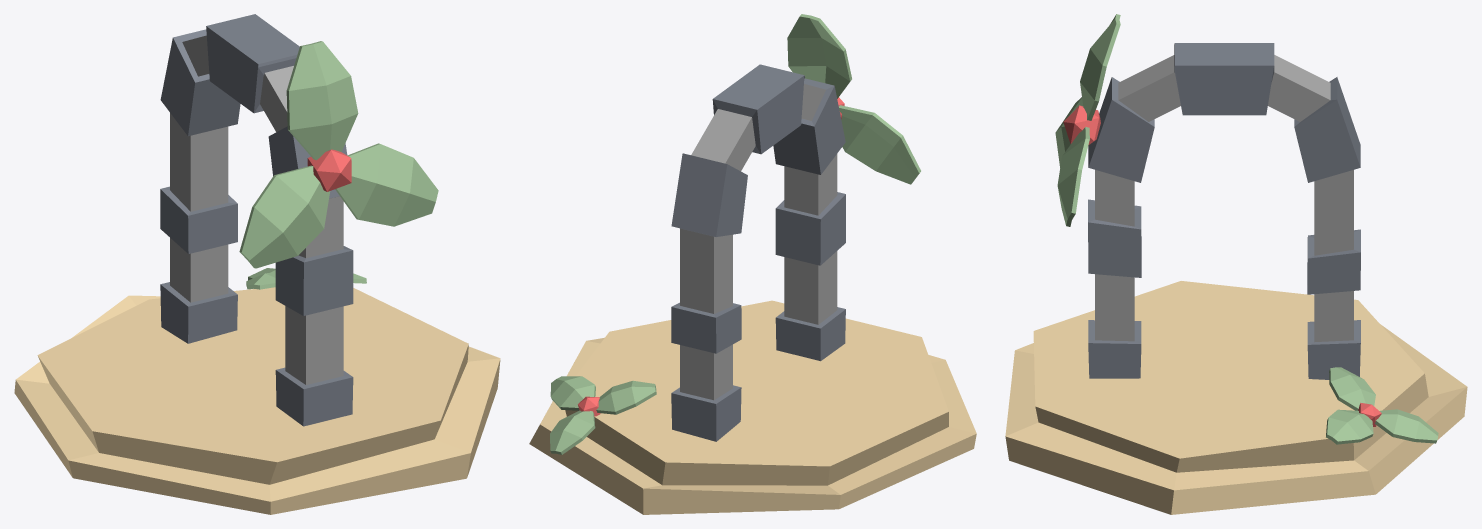
Rendered from Portal-col.glb.
The picture shows the model from 3 angles, left to right: view 1: azimuth 30°, elevation 25°; view 2: azimuth 150°, elevation 25°; view 3: azimuth 270°, elevation 25°; orthographic projection. The views are drawn at different scales.
Parts seen in each view (by area): view 1: Portal-col; view 2: Portal-col; view 3: Portal-col.
Boxes of the visible parts, left/top/right/bottom form: Portal-col: left=14, top=14, right=500, bottom=514; Portal-col: left=529, top=14, right=976, bottom=514; Portal-col: left=1005, top=14, right=1467, bottom=514.
Bounding box in the file's own units: 2.75 × 2.54 × 2.68.
